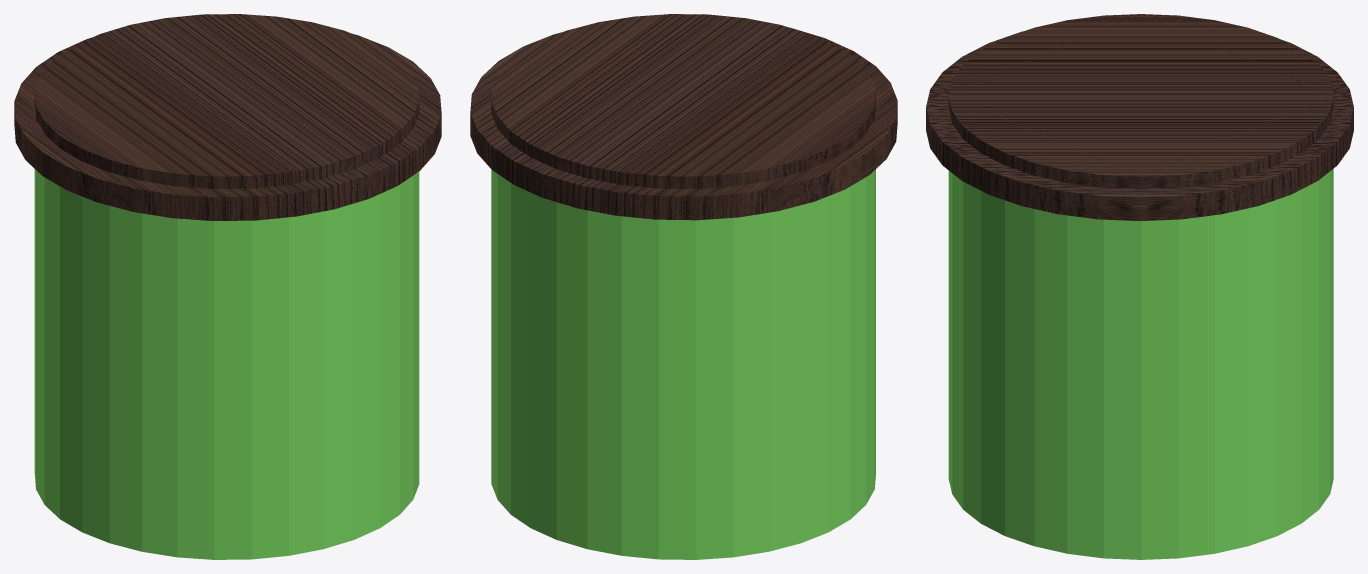
The model's file is jar.fbx.
3 renders of one model, left to right at view 1: azimuth 30°, elevation 25°; view 2: azimuth 150°, elevation 25°; view 3: azimuth 270°, elevation 25°, orthographic.
Visible parts, largest first — view 1: Cylinder; view 2: Cylinder; view 3: Cylinder.
Part boxes in pixels (x1,y1,x2,y2): Cylinder: (14, 14, 441, 559); Cylinder: (470, 14, 897, 559); Cylinder: (926, 14, 1353, 559).
Size of the model in its own units: 222 by 219 by 222.
2 materials, 1 textured.
